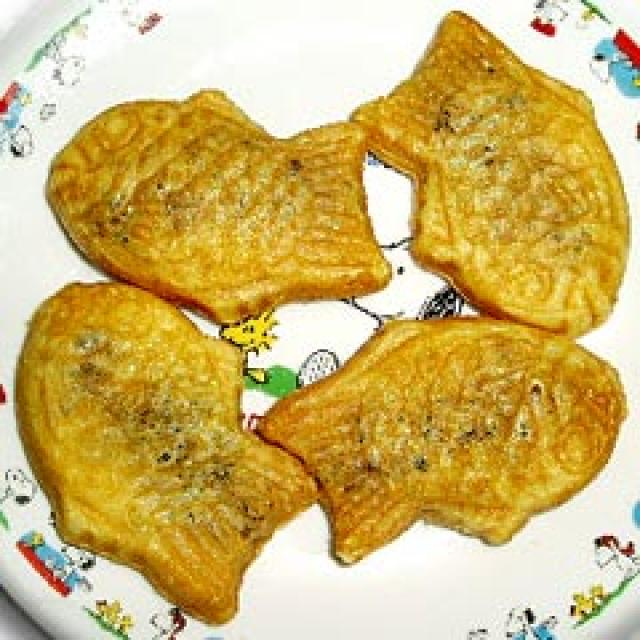熟制海鲜: (8, 0, 627, 624)
